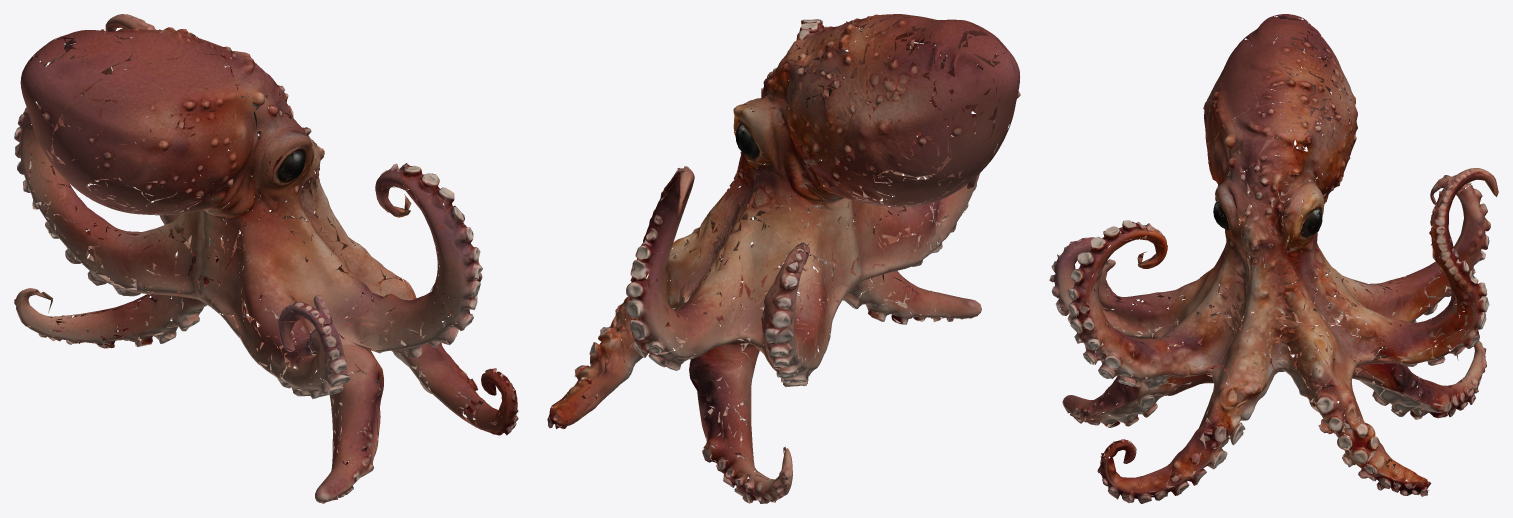
File: octopus.glb
The picture shows the model from 3 angles, left to right: view 1: azimuth 30°, elevation 25°; view 2: azimuth 150°, elevation 25°; view 3: azimuth 270°, elevation 25°; orthographic projection. The views are drawn at different scales.
Visible parts, largest first — view 1: tripo_node_5693dfdd_tripo_mat_5693dfdd_0; view 2: tripo_node_5693dfdd_tripo_mat_5693dfdd_0; view 3: tripo_node_5693dfdd_tripo_mat_5693dfdd_0.
Boxes of the visible parts, x1,y1,x2,y2 form: tripo_node_5693dfdd_tripo_mat_5693dfdd_0: (14,14,518,503); tripo_node_5693dfdd_tripo_mat_5693dfdd_0: (547,14,1020,503); tripo_node_5693dfdd_tripo_mat_5693dfdd_0: (1049,14,1498,503).
Bounding box in the file's own units: 0.8294 × 0.8398 × 0.9788.
1 material, 1 textured.
